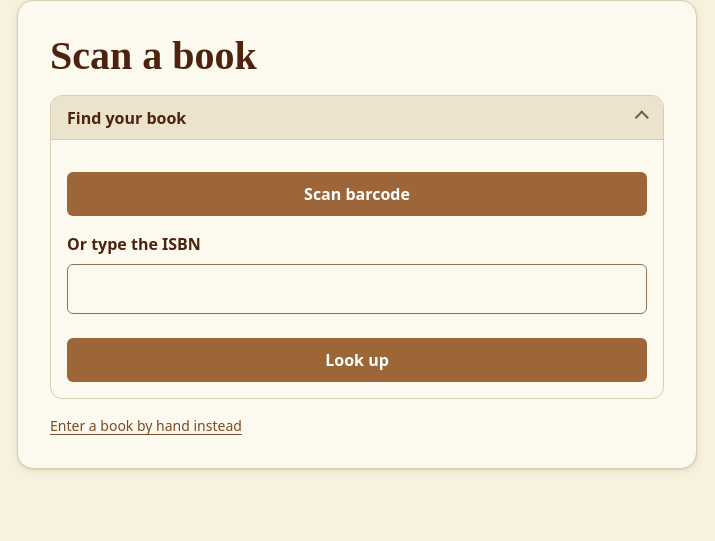
US-02: adding a book by ISBN › CT-18 shows a message and a link to enter the book by hand when the ISBN is not found
This screenshot has width=715, height=541.
In the field labelled "Or type the ISBN": (357, 289) 67,264 -> 647,314, type "9780441013593"
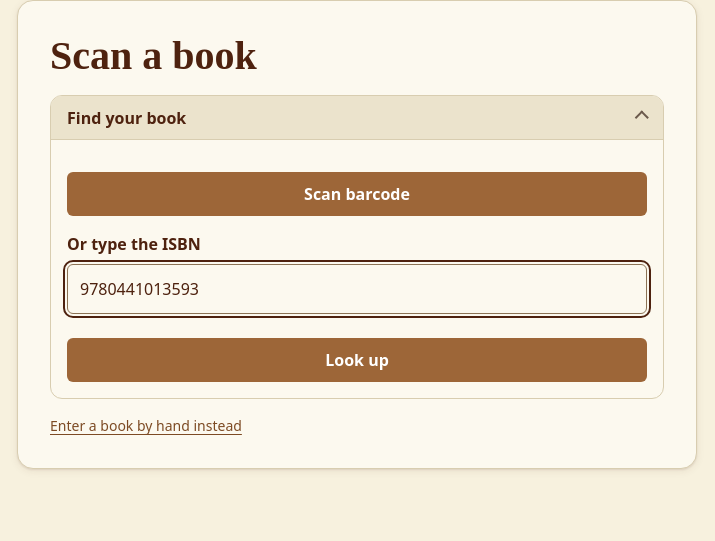
Click the button "Look up": click(357, 360) 67,338 -> 647,382
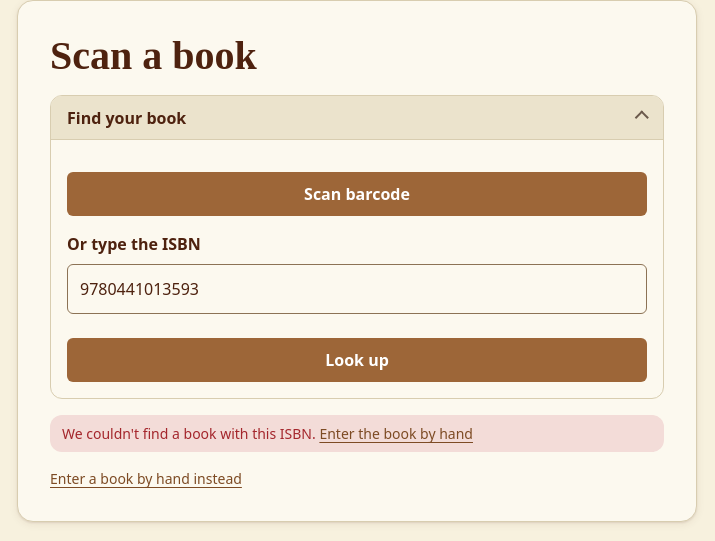
Now the message shows "We couldn't find a book with this ISBN.", box 62,424 -> 316,443
